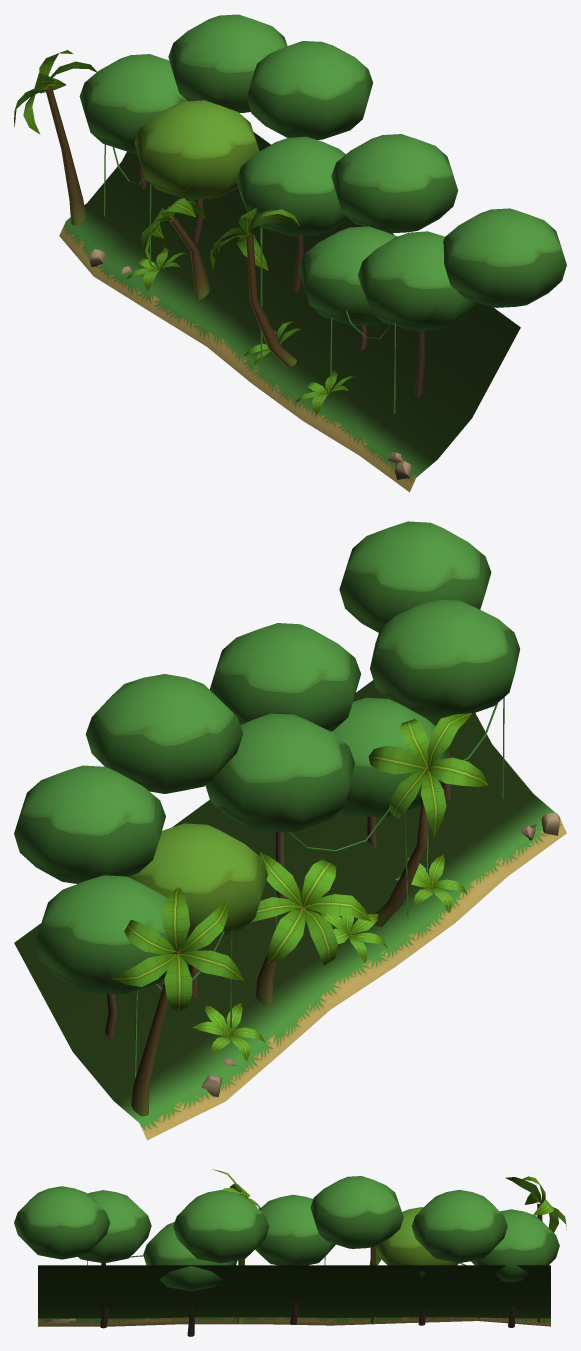
The model's file is jungle pattern2.fbx.
3 views of the same model, one above another, from view 1: azimuth 30°, elevation 25°; view 2: azimuth 150°, elevation 25°; view 3: azimuth 270°, elevation 25° (orthographic). The views are drawn at different scales.
Parts seen in each view (by area): view 1: trees1, ground1, palm, trees2, rocks7; view 2: trees1, ground1, palm, trees2, rocks7; view 3: trees1, ground1, trees2, palm.
Part boxes in pixels (x1,y1,x2,y2): trees1: [79, 14, 566, 397]; ground1: [59, 132, 520, 492]; palm: [14, 50, 355, 414]; trees2: [134, 100, 259, 244]; rocks7: [89, 249, 411, 479]; trees1: [14, 521, 519, 1038]; ground1: [14, 680, 566, 1140]; palm: [112, 713, 488, 1116]; trees2: [127, 823, 267, 997]; rocks7: [201, 813, 560, 1097]; trees1: [14, 1176, 559, 1336]; ground1: [38, 1255, 550, 1326]; trees2: [375, 1207, 458, 1325]; palm: [212, 1169, 566, 1323].
Bounding box in the file's own units: 300 × 312 × 830.
